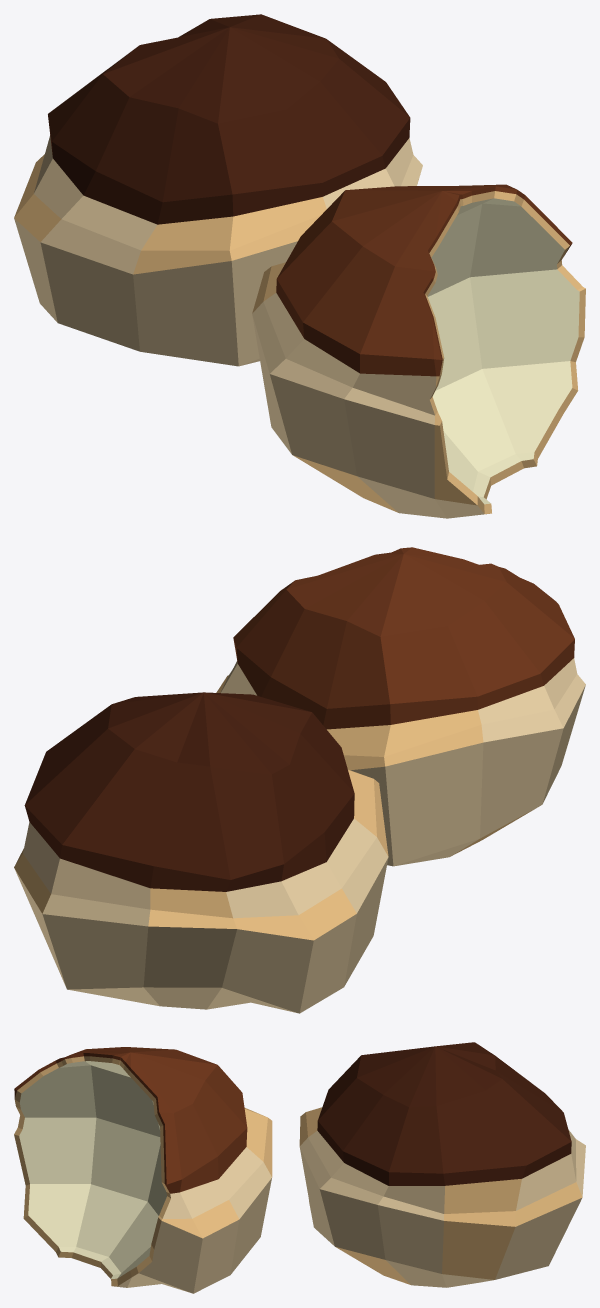
File: ProfiteroleState2.fbx
3 views of the same model, one above another, from view 1: azimuth 30°, elevation 25°; view 2: azimuth 150°, elevation 25°; view 3: azimuth 270°, elevation 25° (orthographic). The views are drawn at different scales.
Parts seen in each view (by area): view 1: ProfiteroleState2; view 2: ProfiteroleState2; view 3: ProfiteroleState2.
Part boxes in pixels (box(x1,y1,x2,y2)): ProfiteroleState2: box(14, 14, 585, 518); ProfiteroleState2: box(14, 547, 585, 1013); ProfiteroleState2: box(14, 1042, 585, 1293).
Bounding box in the file's own units: 45.38 × 37.69 × 91.48.
